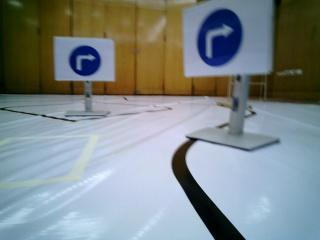right: (185, 10, 272, 72), (59, 37, 118, 83)
